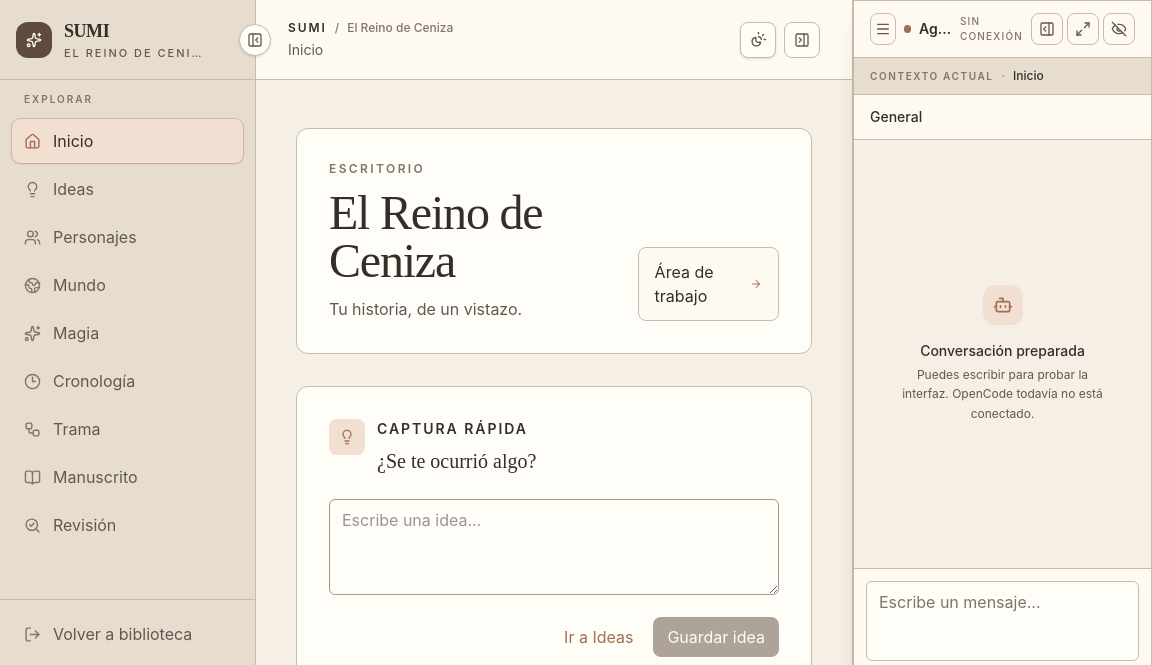
Test case: SUMI shell › keeps one menu toggle in the same top area when collapsing the sidebar
Click the button named "Contraer menú".
click(255, 40)  # box [239,24,271,56]
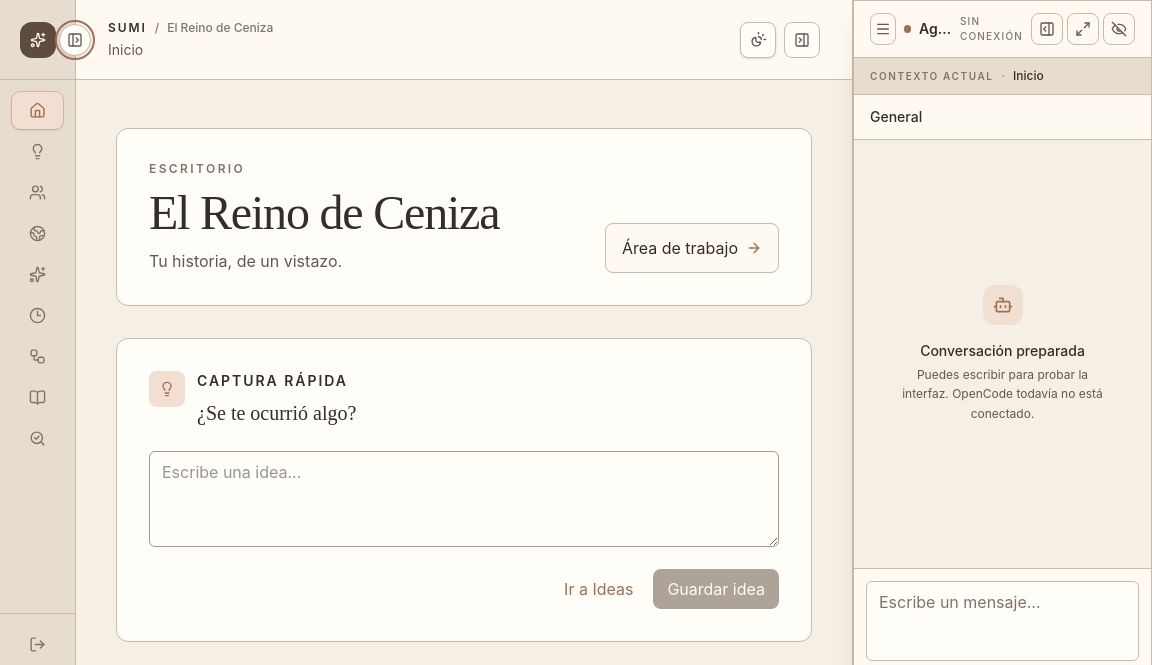
Expected: the button named "Expandir menú" is shown
Click the button named "Expandir menú".
click(75, 40)  # box [59,24,91,56]
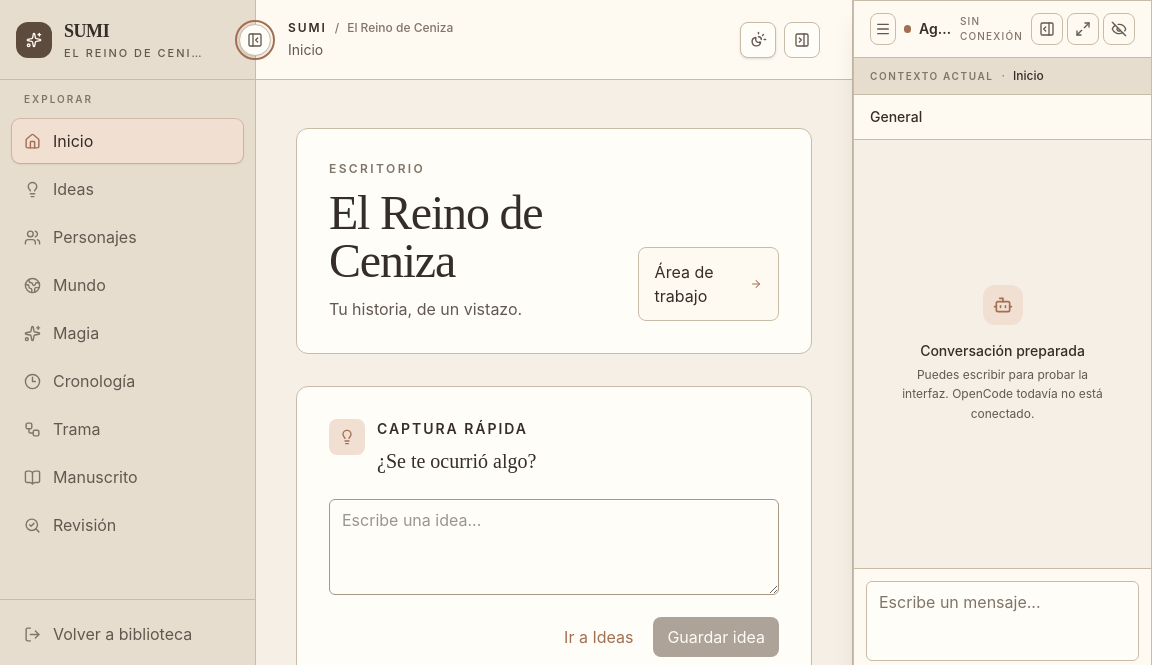
Expected: the button named "Contraer menú" is shown, [239,24,271,56]
